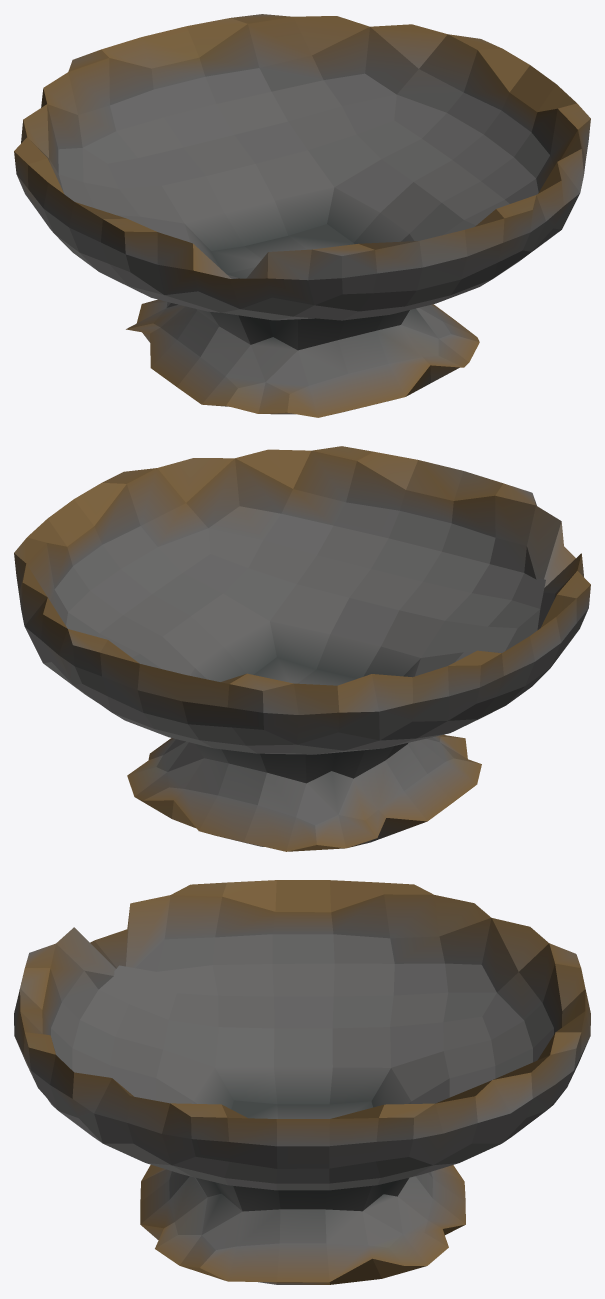
File: Fruitbasket_empty.fbx
3 renders of one model, top to bottom at view 1: azimuth 30°, elevation 25°; view 2: azimuth 150°, elevation 25°; view 3: azimuth 270°, elevation 25°, orthographic.
Visible parts, largest first — view 1: Fruit_basket.001; view 2: Fruit_basket.001; view 3: Fruit_basket.001.
Boxes of the visible parts, x1=… form: Fruit_basket.001: x1=14, y1=14, x2=590, y2=417; Fruit_basket.001: x1=14, y1=446, x2=590, y2=851; Fruit_basket.001: x1=14, y1=880, x2=590, y2=1284.
Bounding box in the file's own units: 41.3 × 18.35 × 41.31.
